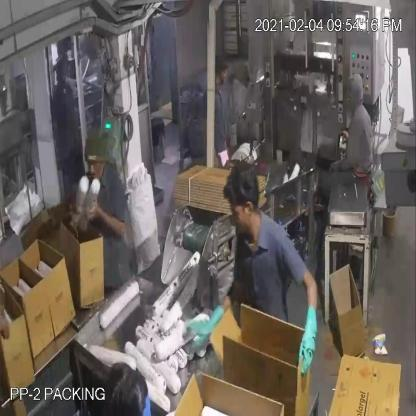glove: (174, 294, 226, 358), (296, 293, 322, 391)
no_glove: (84, 194, 129, 258)
